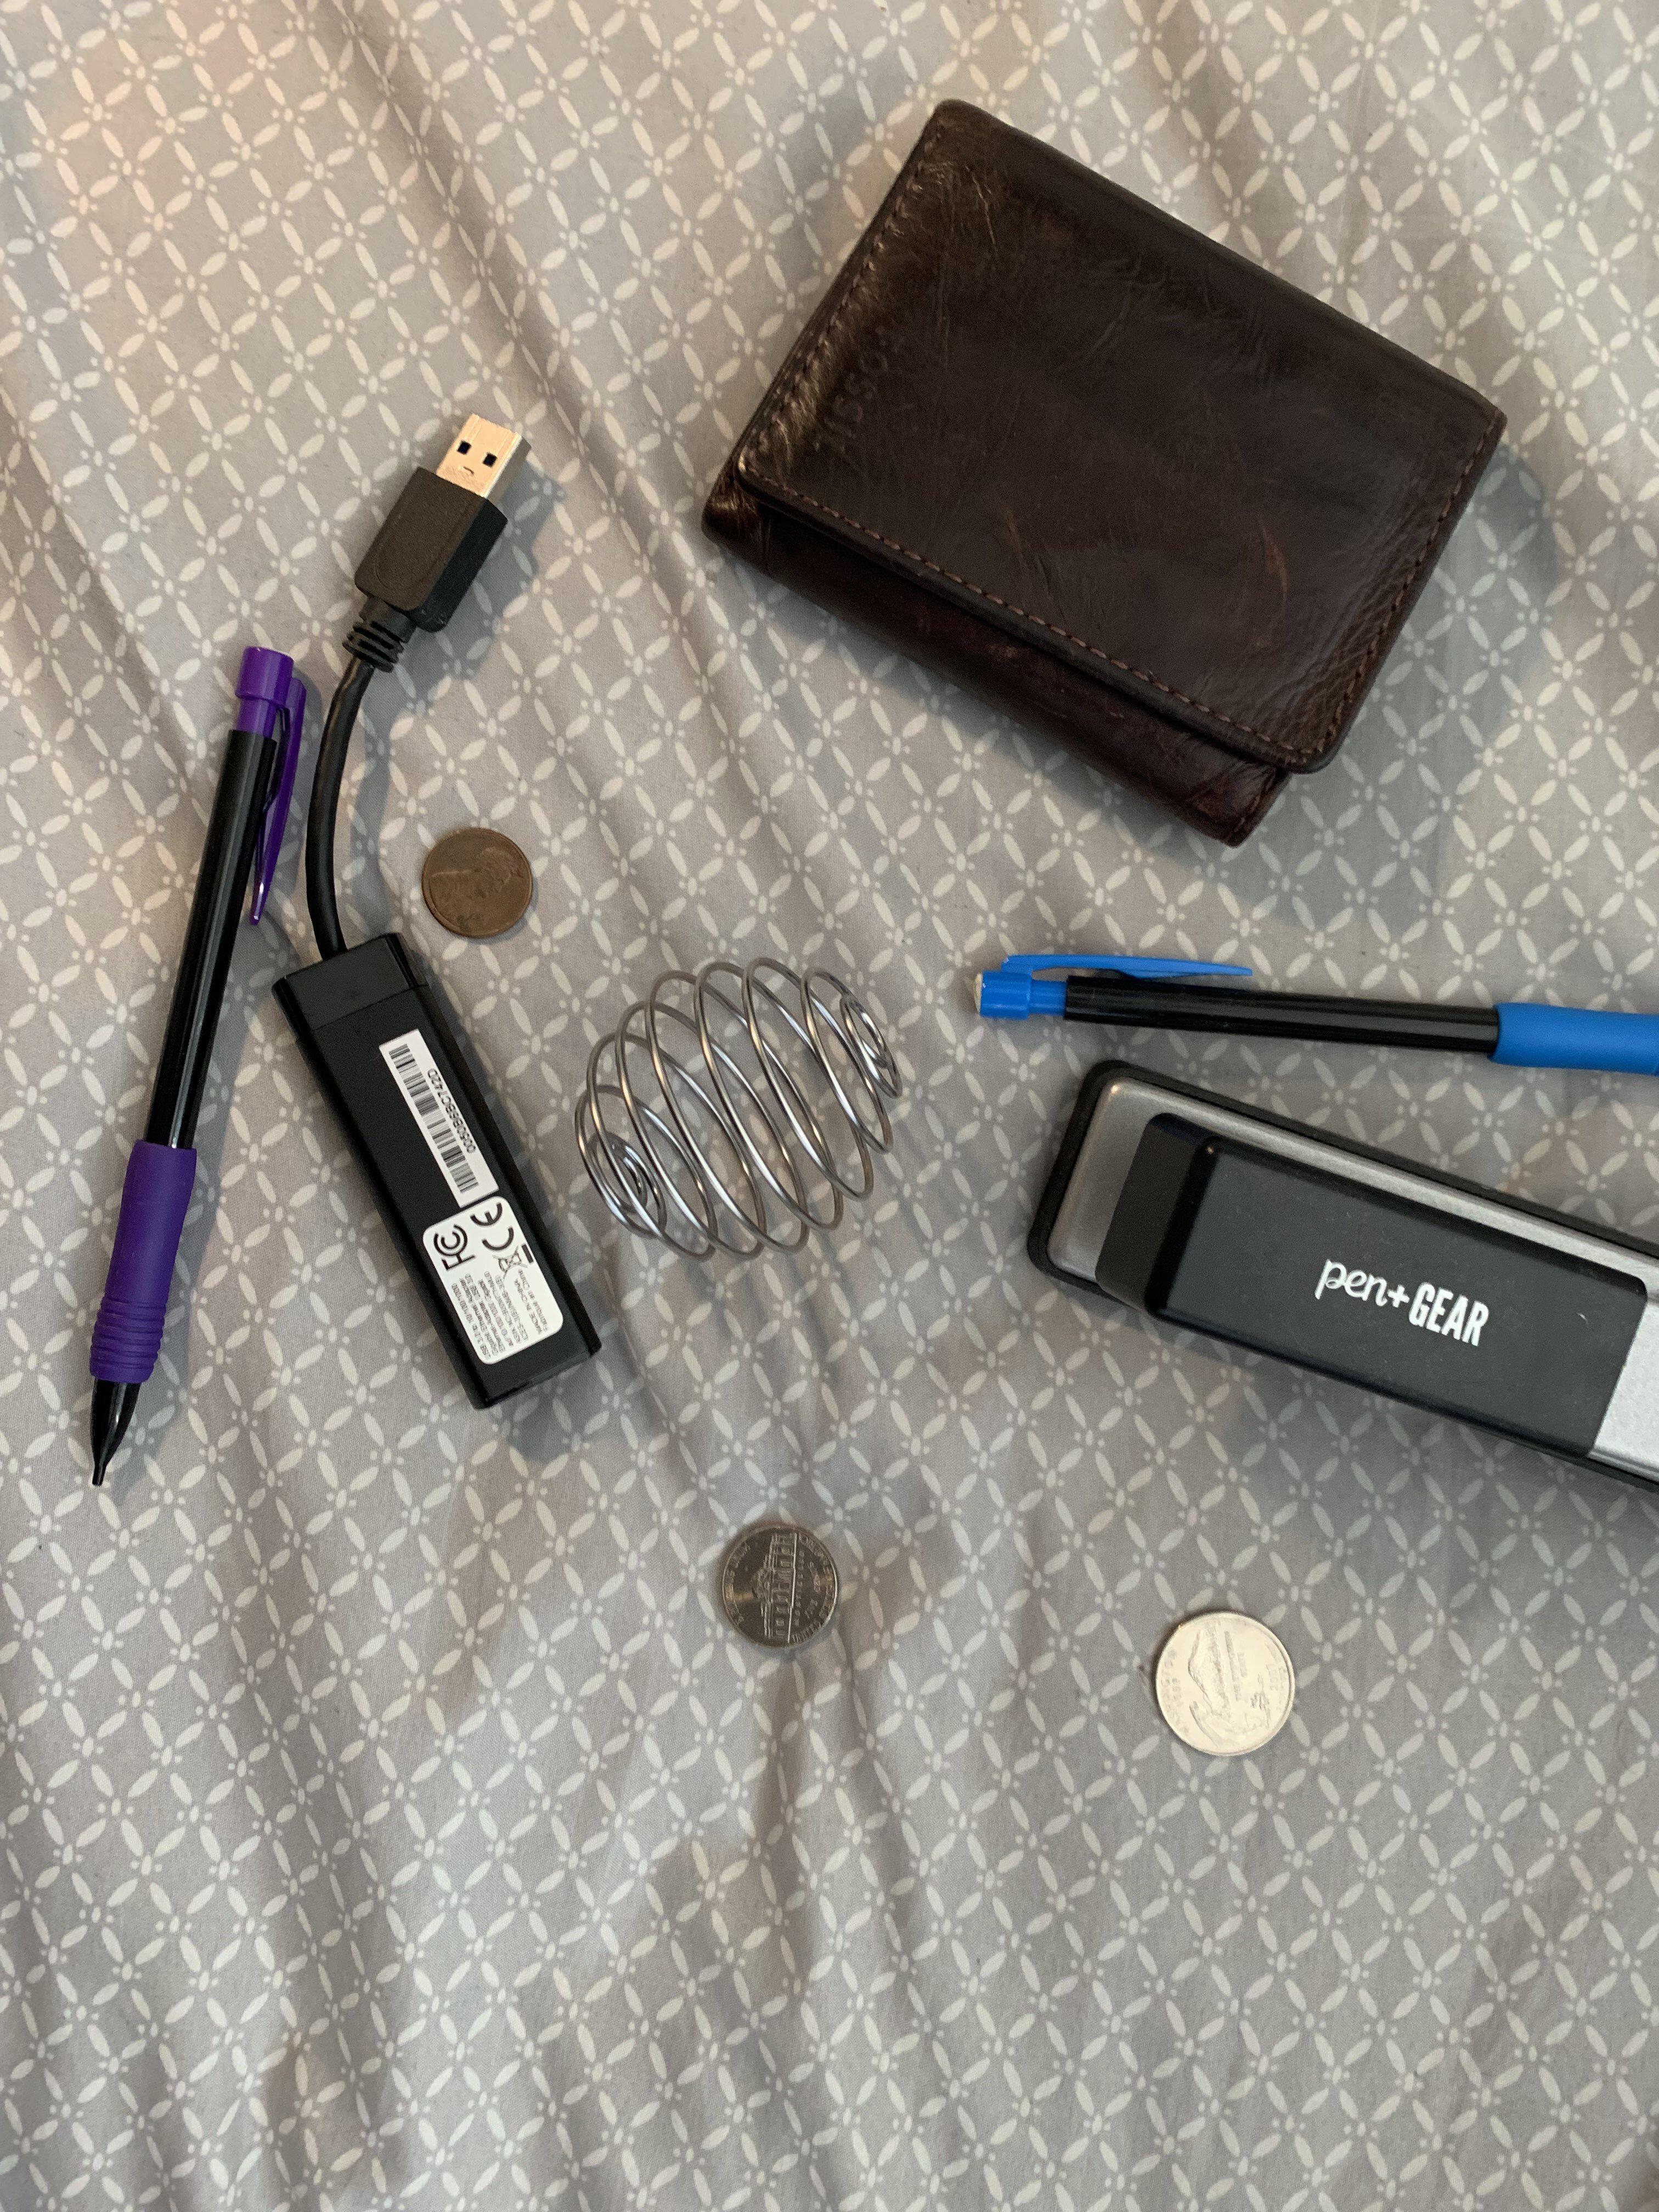Nickel: (701, 1505, 863, 1669)
Penny: (401, 812, 558, 974)
Quarter: (1133, 1594, 1321, 1799)
